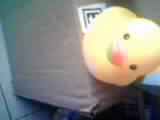duck: (86, 4, 147, 89)
